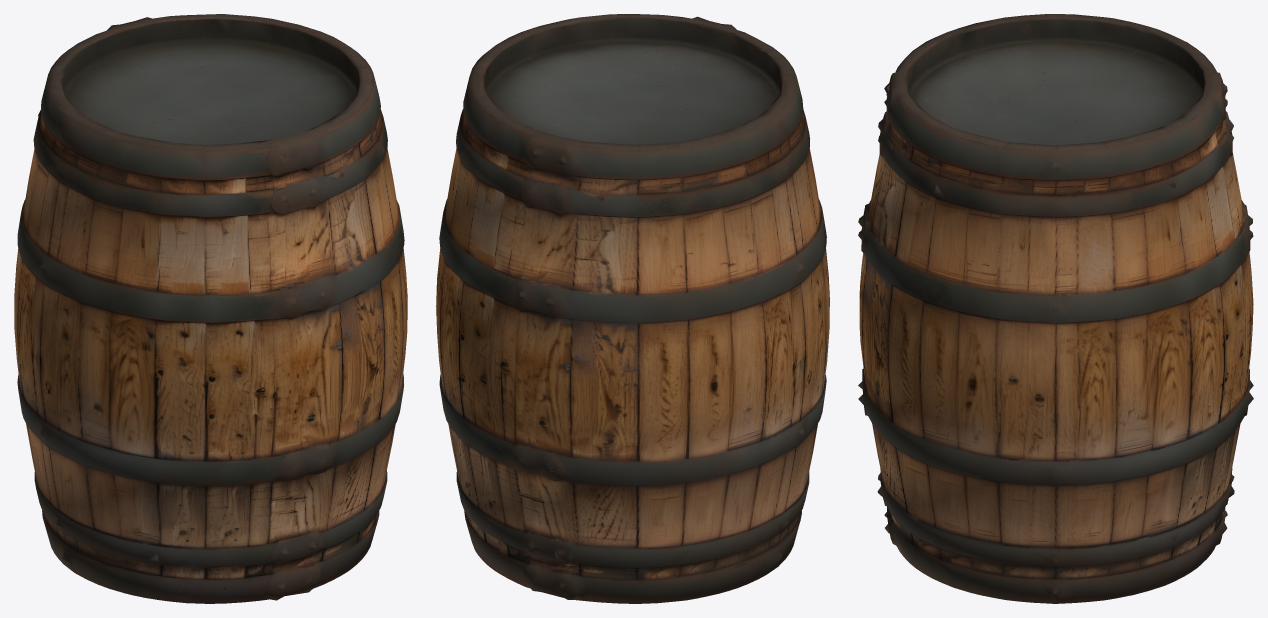
Rendered from barrel-production-lowpoly.glb.
3 views of the same model, side by side, from view 1: azimuth 30°, elevation 25°; view 2: azimuth 150°, elevation 25°; view 3: azimuth 270°, elevation 25° (orthographic).
Parts seen in each view (by area): view 1: material; view 2: material; view 3: material.
Boxes of the visible parts, box(x1,y1,x2,y2) form: material: box(14, 14, 407, 603); material: box(436, 14, 829, 603); material: box(858, 14, 1253, 603).
Bounding box in the file's own units: 0.7882 × 1 × 0.7893.
Materials: 1 (1 with a texture image).
